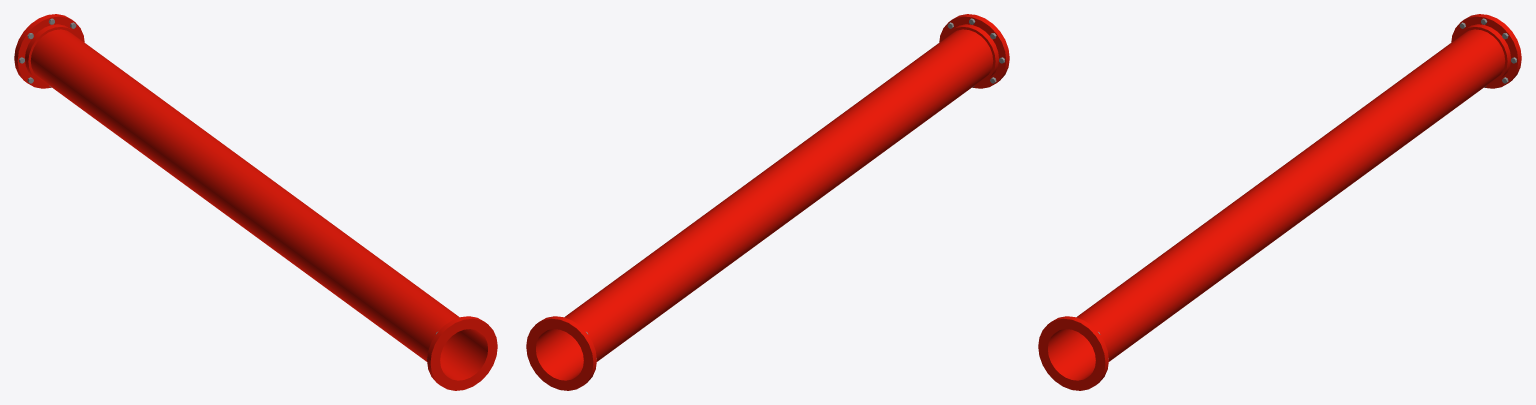
File: Pipe_200_Straight_1m.016.fbx
3 renders of one model, left to right at view 1: azimuth 30°, elevation 25°; view 2: azimuth 150°, elevation 25°; view 3: azimuth 330°, elevation 25°, orthographic.
Visible parts, largest first — view 1: Pipe_200_Straight_1m.016; view 2: Pipe_200_Straight_1m.016; view 3: Pipe_200_Straight_1m.016.
Part boxes in pixels (left/top/right/bottom): Pipe_200_Straight_1m.016: left=14, top=14, right=497, bottom=390; Pipe_200_Straight_1m.016: left=526, top=14, right=1009, bottom=390; Pipe_200_Straight_1m.016: left=1038, top=14, right=1521, bottom=390.
Bounding box in the file's own units: 0.28 × 0.28 × 3.
